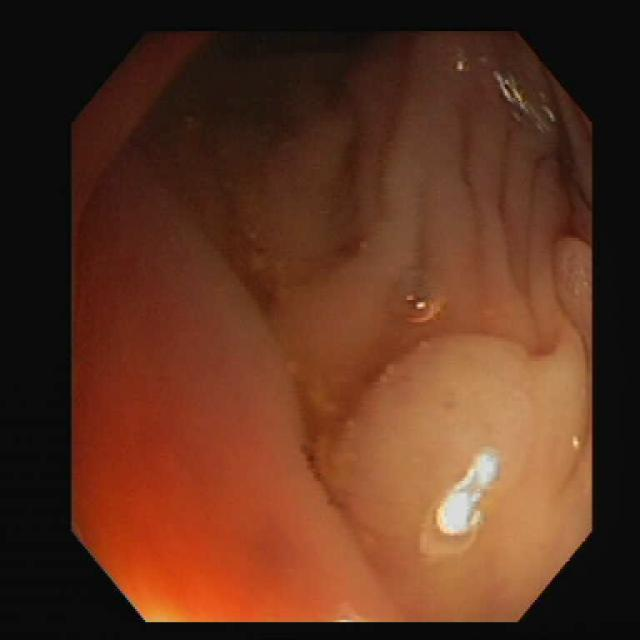tumor: (323, 322, 590, 576)
